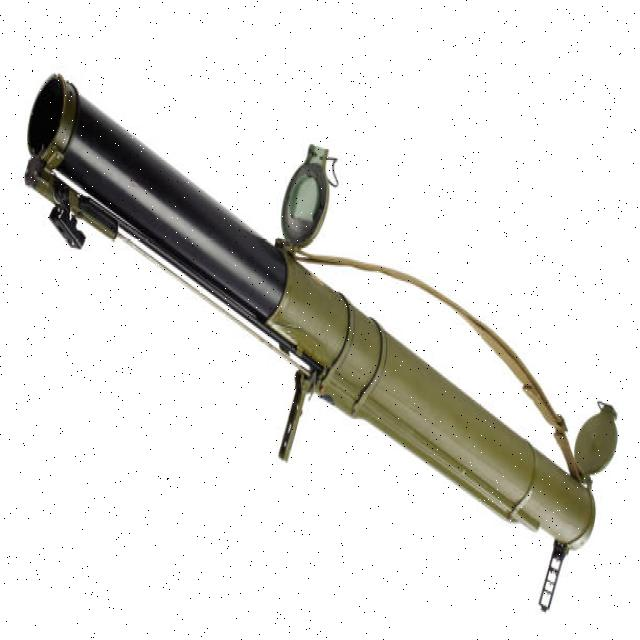bazooka: (16, 68, 624, 617)
